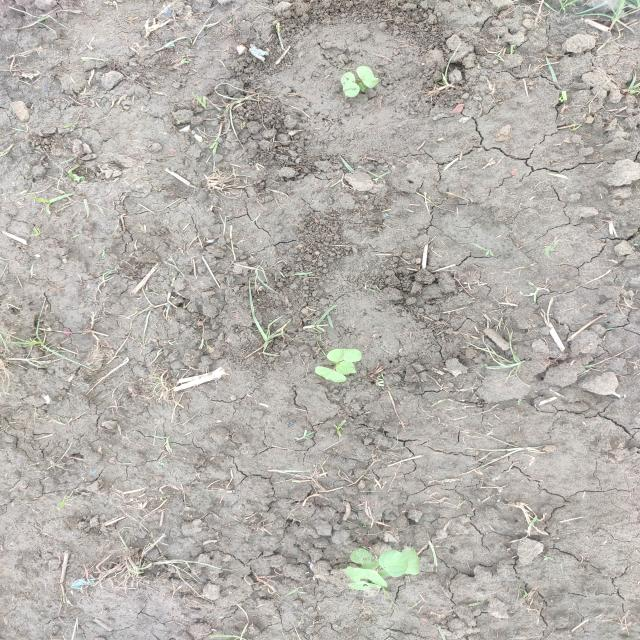seedling_s4: (379, 550, 414, 577), (353, 568, 388, 587), (350, 549, 380, 569), (315, 366, 347, 383), (356, 66, 379, 88), (340, 72, 360, 97), (327, 348, 362, 362), (405, 549, 420, 575), (348, 581, 381, 591), (344, 566, 361, 582), (336, 361, 356, 374)
